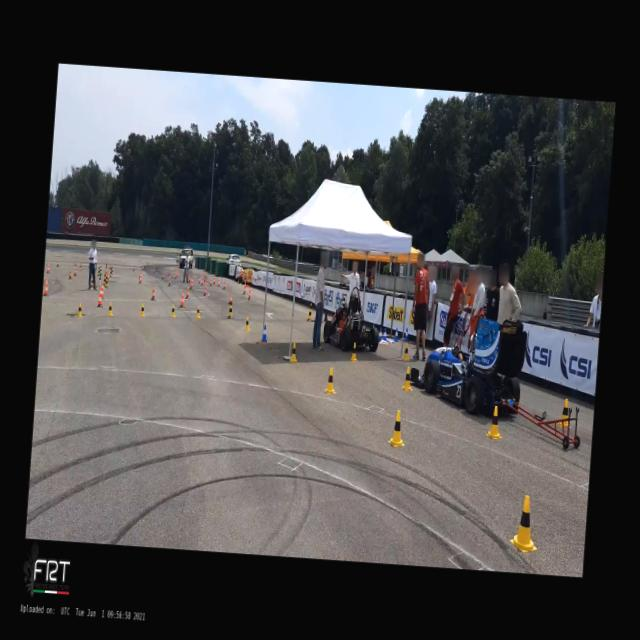blue_cone: (260, 324, 268, 341), (382, 327, 387, 340), (378, 327, 382, 341), (394, 328, 398, 342), (404, 327, 408, 340)
large_orange_cone: (96, 287, 104, 307), (42, 278, 50, 296), (178, 289, 186, 307), (150, 285, 156, 300), (246, 286, 252, 300), (241, 280, 247, 294), (184, 284, 190, 298), (188, 277, 194, 290), (202, 284, 208, 296), (216, 276, 222, 288), (100, 282, 104, 300), (73, 264, 78, 277), (228, 289, 232, 304), (222, 278, 227, 290), (167, 276, 172, 286), (46, 263, 51, 273), (138, 271, 142, 283), (68, 268, 72, 280), (78, 260, 82, 270), (174, 268, 177, 280), (213, 274, 216, 284), (56, 257, 59, 267), (200, 276, 203, 286), (209, 278, 212, 286), (198, 274, 200, 284), (188, 274, 190, 282), (153, 266, 155, 274), (176, 270, 178, 278), (162, 272, 164, 278)
unknown_cone: (227, 298, 234, 318), (306, 303, 313, 321), (103, 275, 108, 288), (323, 310, 328, 321), (90, 275, 94, 287), (109, 268, 113, 278), (97, 266, 100, 276), (99, 265, 102, 275)
yellow_cone: (509, 493, 540, 552), (388, 410, 407, 447), (485, 406, 504, 440), (323, 368, 338, 394), (558, 398, 570, 428), (401, 366, 414, 390), (288, 342, 298, 362), (348, 342, 358, 361), (402, 344, 410, 361), (243, 316, 250, 331), (76, 303, 83, 316), (108, 302, 114, 316), (194, 306, 200, 318), (170, 304, 176, 316), (140, 304, 145, 316)
